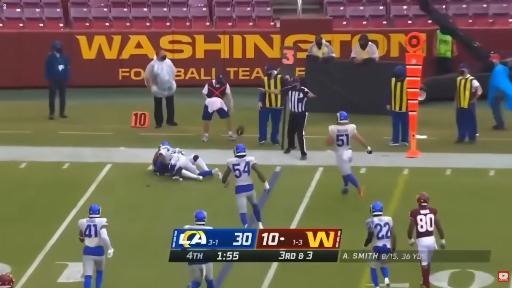Helmet: (0, 273, 14, 287), (234, 143, 246, 158), (417, 192, 429, 206), (371, 202, 383, 215), (195, 210, 206, 224), (89, 205, 101, 217), (338, 112, 348, 122), (160, 141, 171, 147)
Jersey: (79, 218, 107, 256), (228, 157, 256, 194), (410, 207, 437, 238), (329, 124, 356, 154), (366, 216, 392, 247), (160, 147, 181, 163), (156, 162, 171, 174), (184, 225, 212, 230)
Player: (222, 144, 269, 228), (327, 112, 372, 196), (408, 193, 445, 287), (79, 205, 113, 287), (364, 202, 396, 287), (169, 154, 221, 180), (163, 142, 208, 170), (153, 142, 173, 175), (188, 262, 214, 287), (0, 273, 14, 287)
